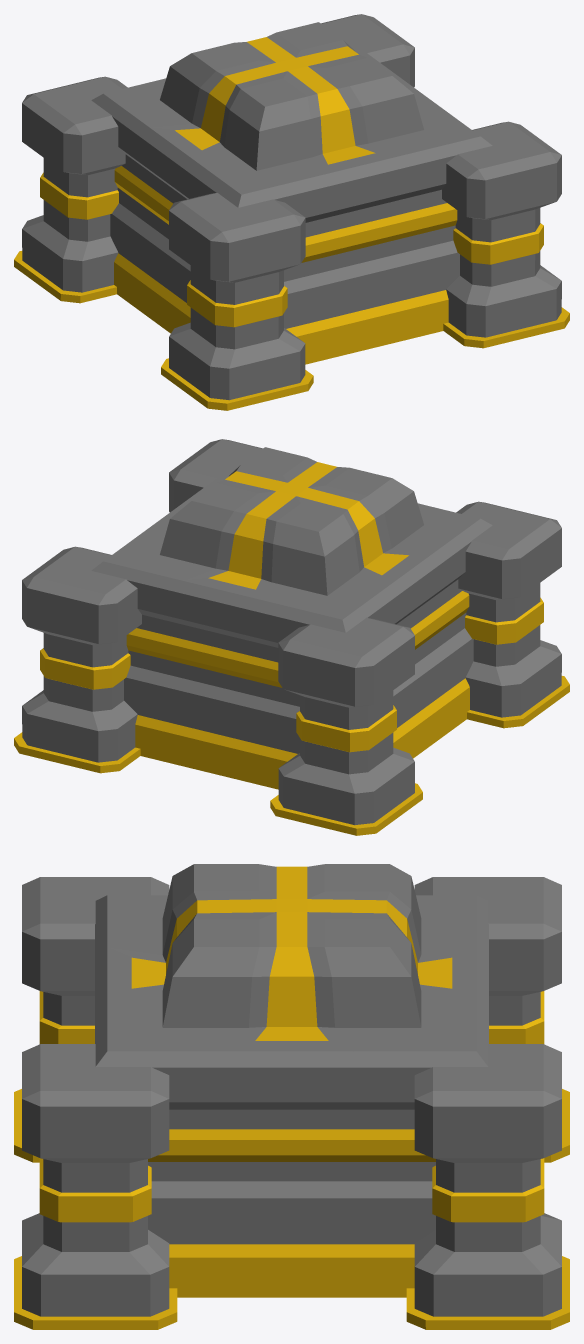
File: treasure_socle_.fbx
3 views of the same model, one above another, from view 1: azimuth 30°, elevation 25°; view 2: azimuth 150°, elevation 25°; view 3: azimuth 270°, elevation 25° (orthographic). The views are drawn at different scales.
Parts seen in each view (by area): view 1: Cube.002, Cube.003, Cube.005, Cube.004; view 2: Cube.002, Cube.003, Cube.005, Cube.004; view 3: Cube.002, Cube.003, Cube.005, Cube.004.
Boxes of the visible parts, box(x1,y1,x2,y2) form: Cube.002: box(91, 22, 492, 328); Cube.003: box(22, 14, 561, 400); Cube.005: box(114, 37, 457, 364); Cube.004: box(14, 172, 569, 410); Cube.002: box(91, 447, 492, 753); Cube.003: box(22, 439, 561, 825); Cube.005: box(126, 462, 469, 789); Cube.004: box(14, 597, 569, 835); Cube.002: box(95, 864, 488, 1244); Cube.003: box(22, 877, 561, 1316); Cube.005: box(131, 866, 452, 1297); Cube.004: box(14, 991, 569, 1329).
Size of the model in its own units: 649 by 393 by 646.
